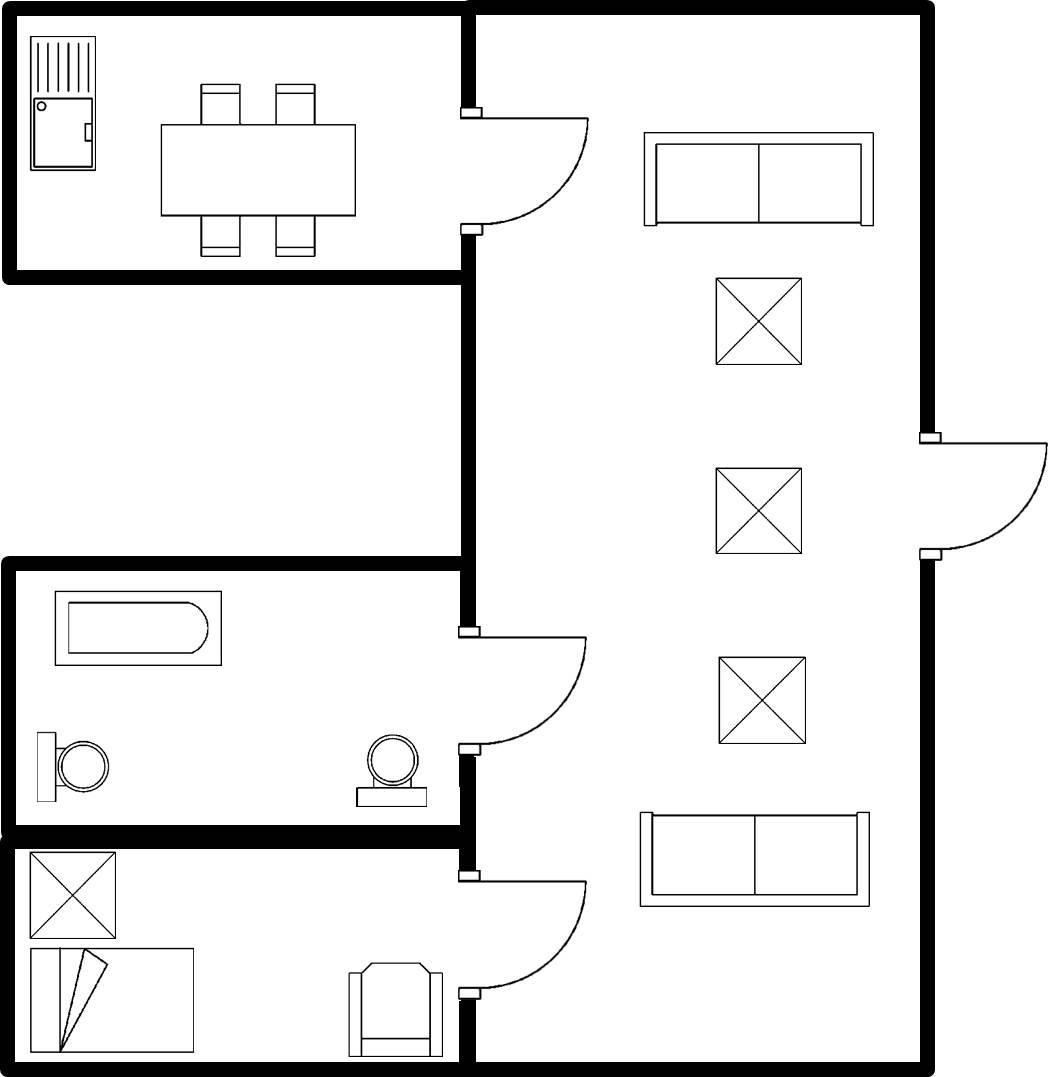armchair: (338, 954, 449, 1062)
bed: (23, 942, 200, 1059)
coffee_table: (706, 459, 809, 564), (709, 649, 815, 751), (708, 271, 812, 373), (22, 847, 125, 943)
dining_table: (149, 74, 365, 267)
large_sink: (351, 727, 438, 815), (28, 726, 115, 810)
large_sofa: (634, 124, 885, 237), (631, 804, 878, 917)
sink: (23, 28, 105, 178)
tub: (47, 581, 228, 677)
